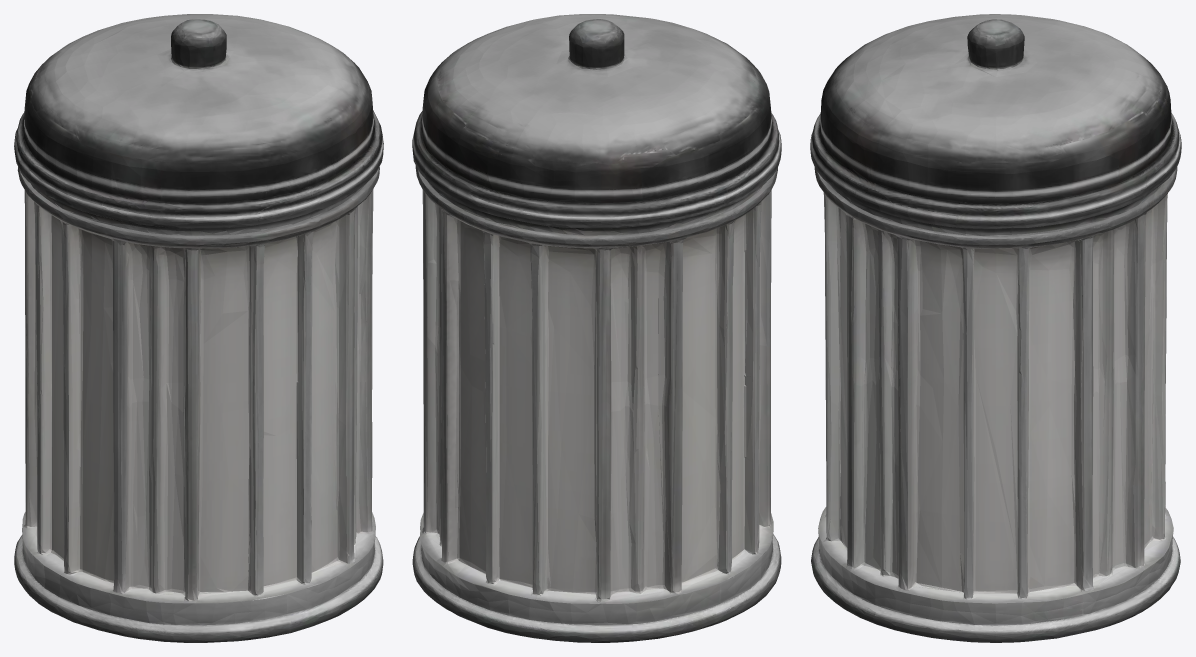
File: tree_christmas_small_ornaments.glb
3 renders of one model, left to right at view 1: azimuth 30°, elevation 25°; view 2: azimuth 150°, elevation 25°; view 3: azimuth 270°, elevation 25°, orthographic.
Visible parts, largest first — view 1: geometry_0; view 2: geometry_0; view 3: geometry_0.
Boxes of the visible parts, x1,y1,x2,y2 form: geometry_0: (14, 14, 383, 642); geometry_0: (412, 14, 781, 642); geometry_0: (810, 14, 1181, 642).
Size of the model in its own units: 0.6217 by 0.9991 by 0.6235.
Materials: 1 (1 with a texture image).
